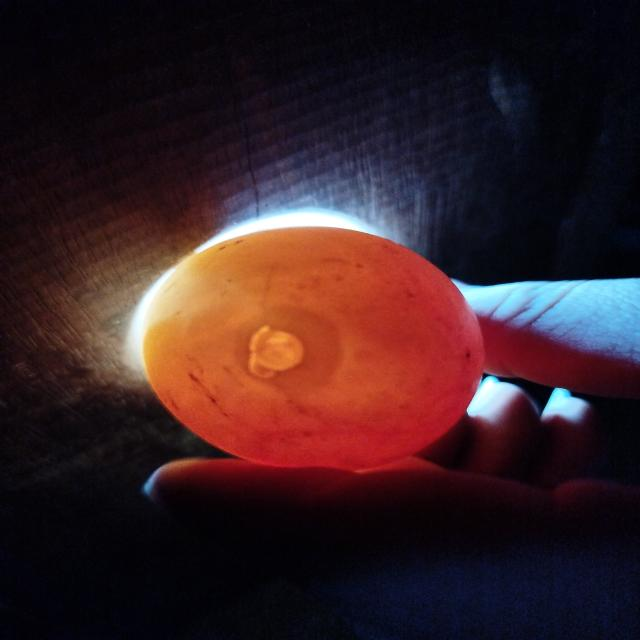Camara de Ar: (230, 304, 341, 392)
Rachadura: (247, 325, 306, 376)
